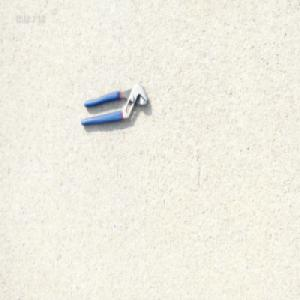Pliers: (80, 82, 150, 127)
